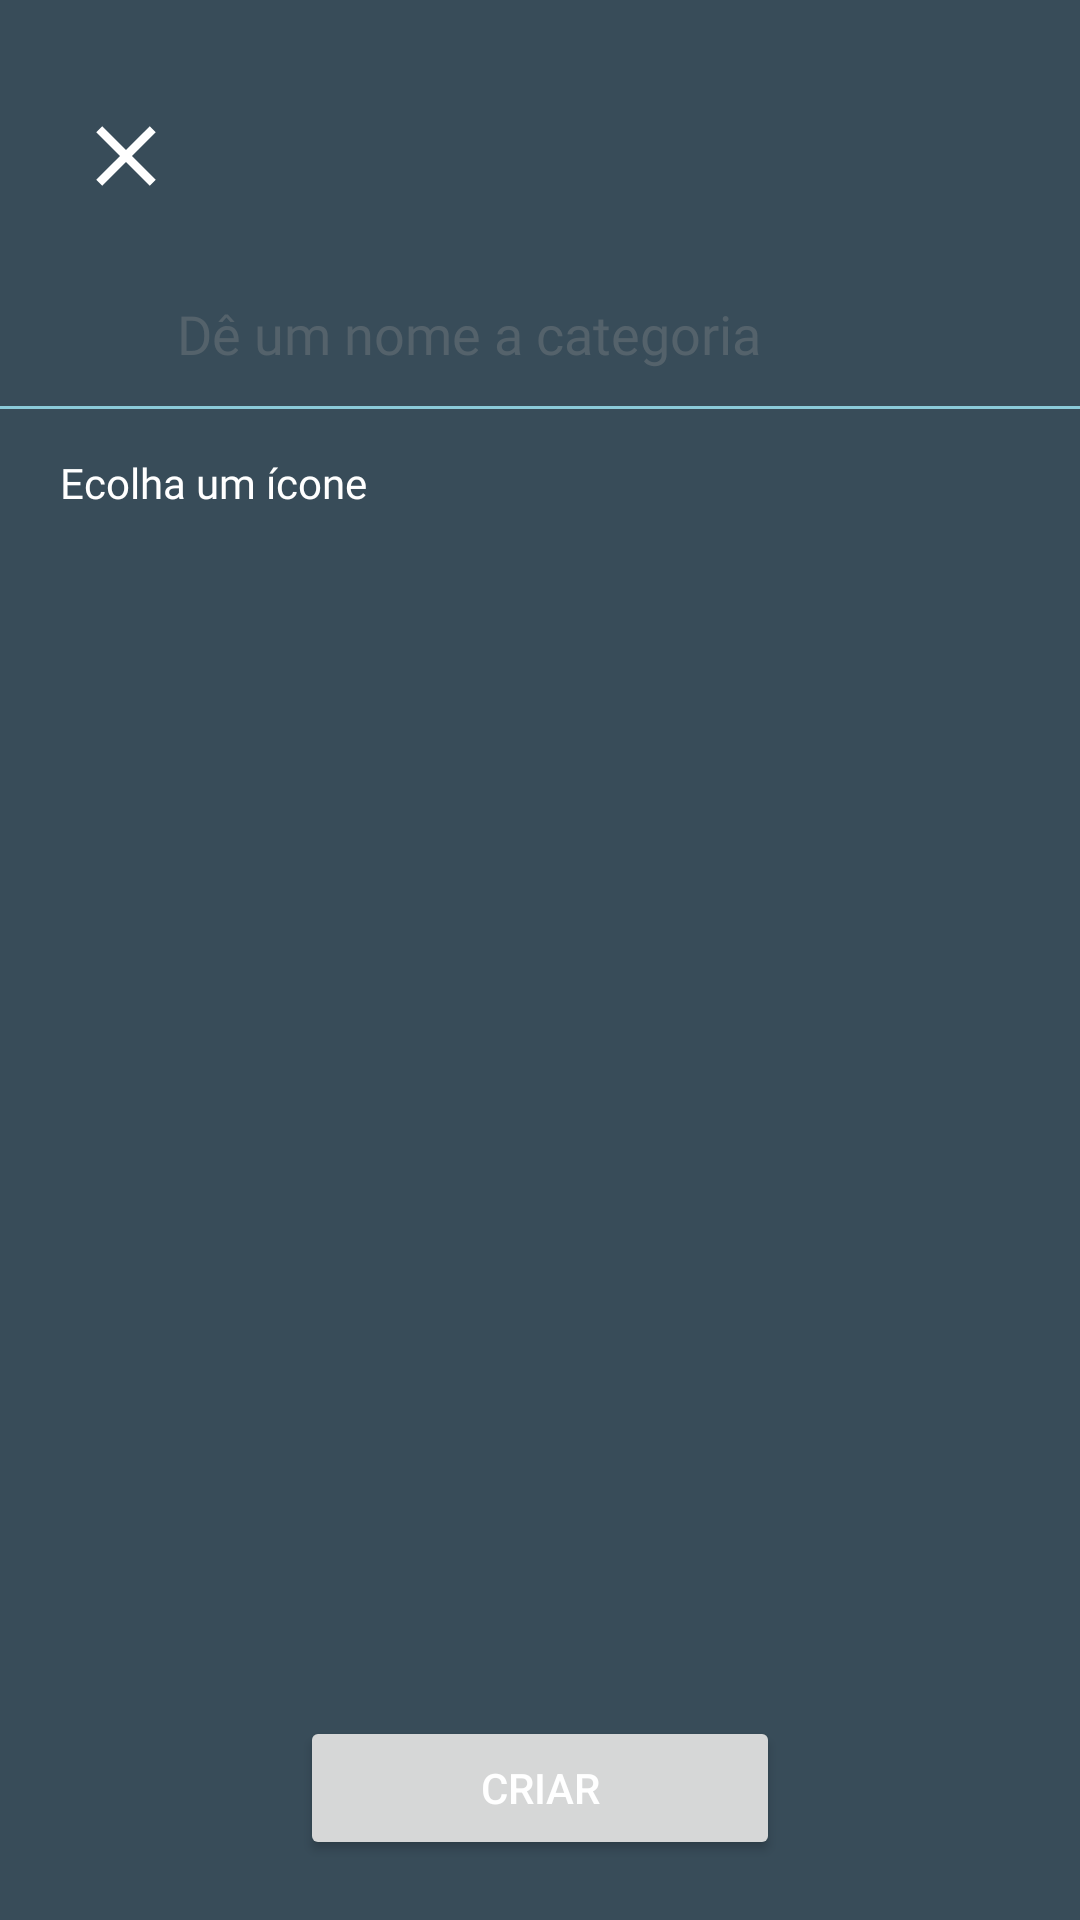

Screen size 1080×1920. Icon name, then its box in pixels as (x1, y1, x2, y2):
close: (96, 126, 156, 186)
